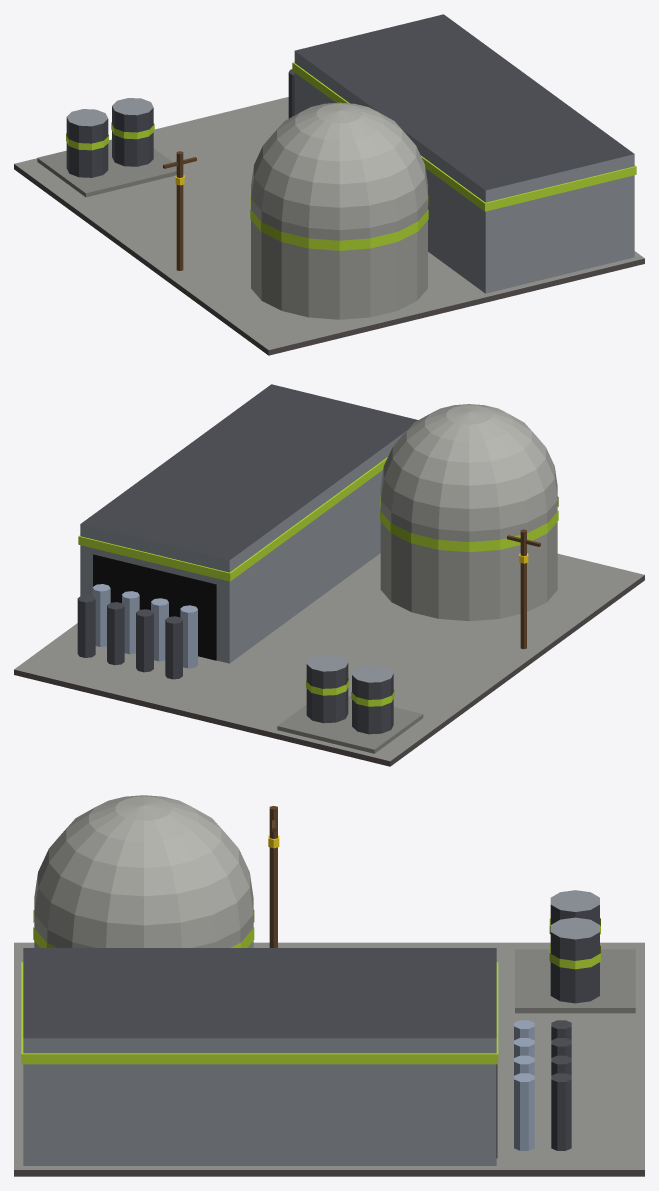
File: enrichment_plant.glb
3 views of the same model, one above another, from view 1: azimuth 30°, elevation 25°; view 2: azimuth 150°, elevation 25°; view 3: azimuth 270°, elevation 25° (orthographic). The views are drawn at different scales.
Parts seen in each view (by area): view 1: enrichment_plant; view 2: enrichment_plant; view 3: enrichment_plant.
Boxes of the visible parts, bbox=[...] form: enrichment_plant: bbox=[14, 14, 644, 355]; enrichment_plant: bbox=[14, 384, 644, 766]; enrichment_plant: bbox=[14, 795, 644, 1176].
Size of the model in its own units: 5.8 by 2.6 by 6.8.
